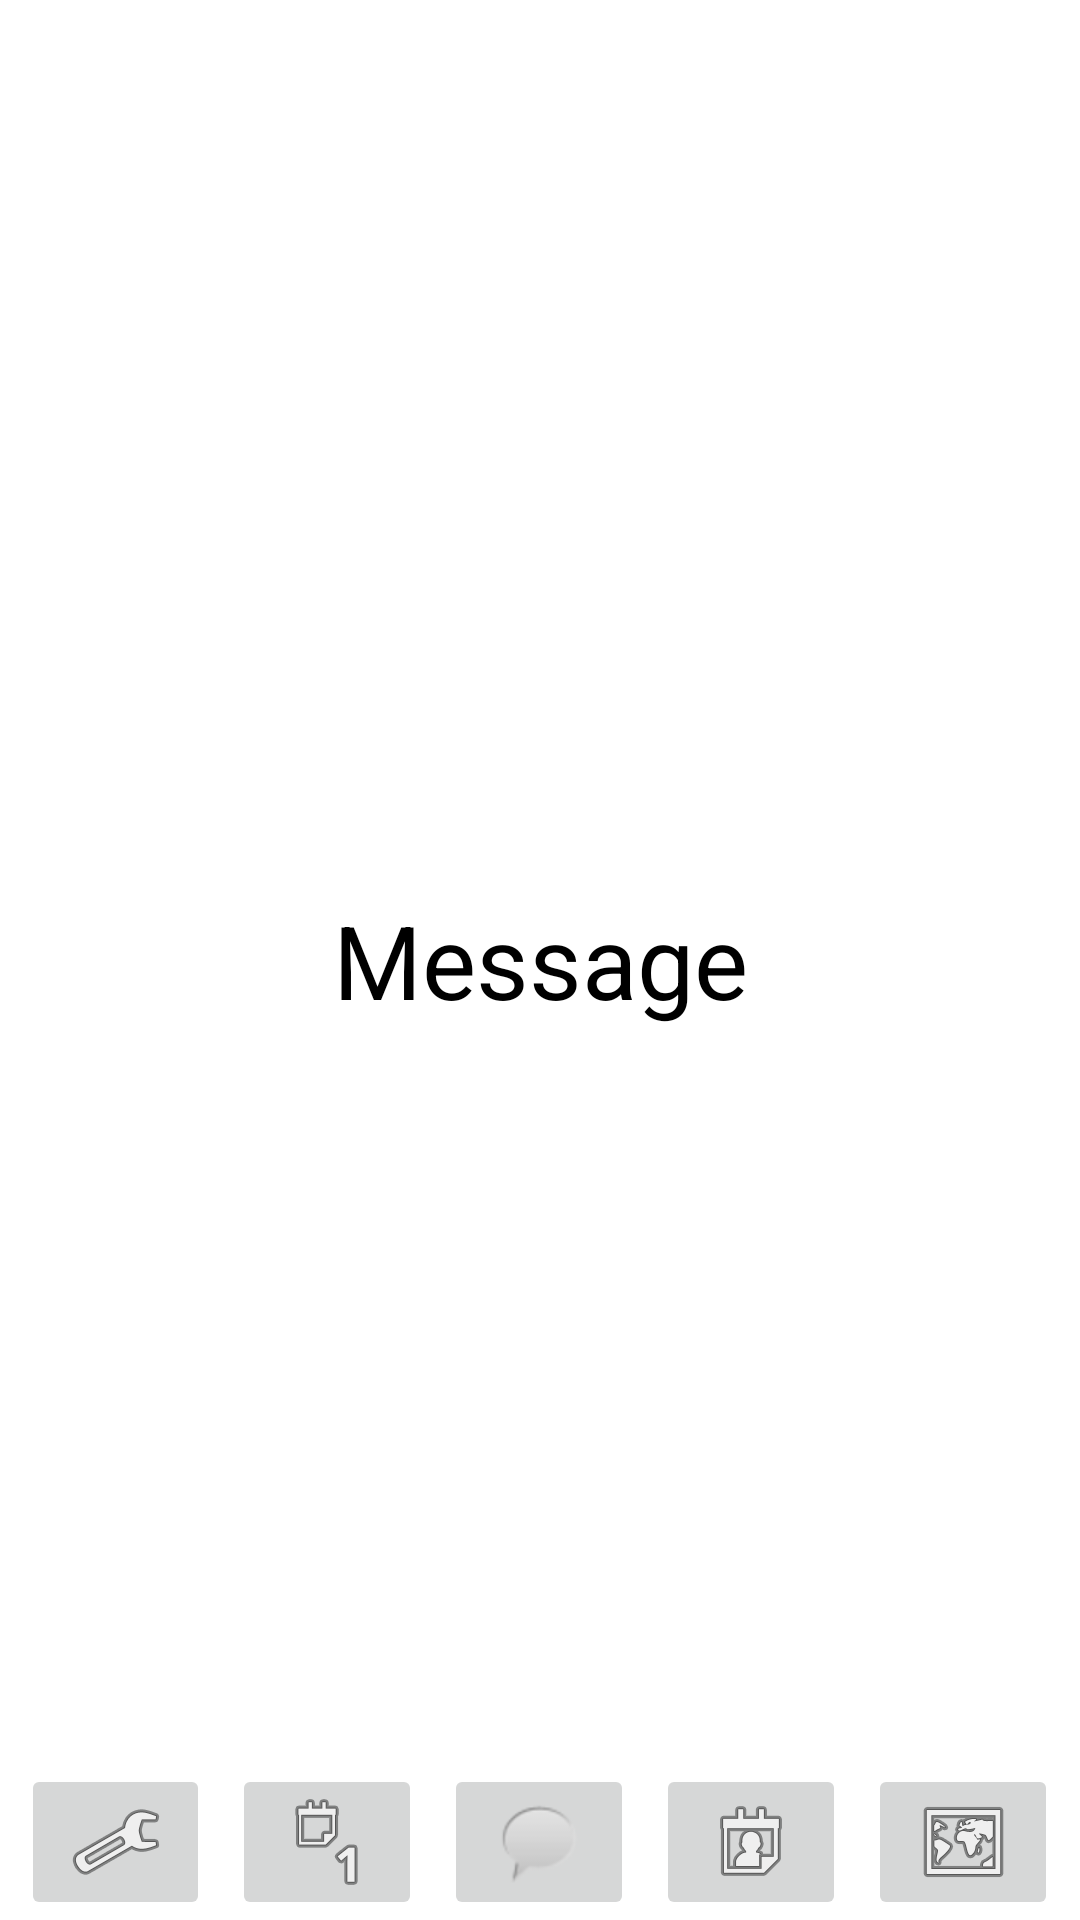

Icons on this 1080×1920 Android screen, each with the point to tap as [x,y]:
Go to Map: [963,1842]
Go to Messages: [539,1842]
Go to Settings: [115,1842]
